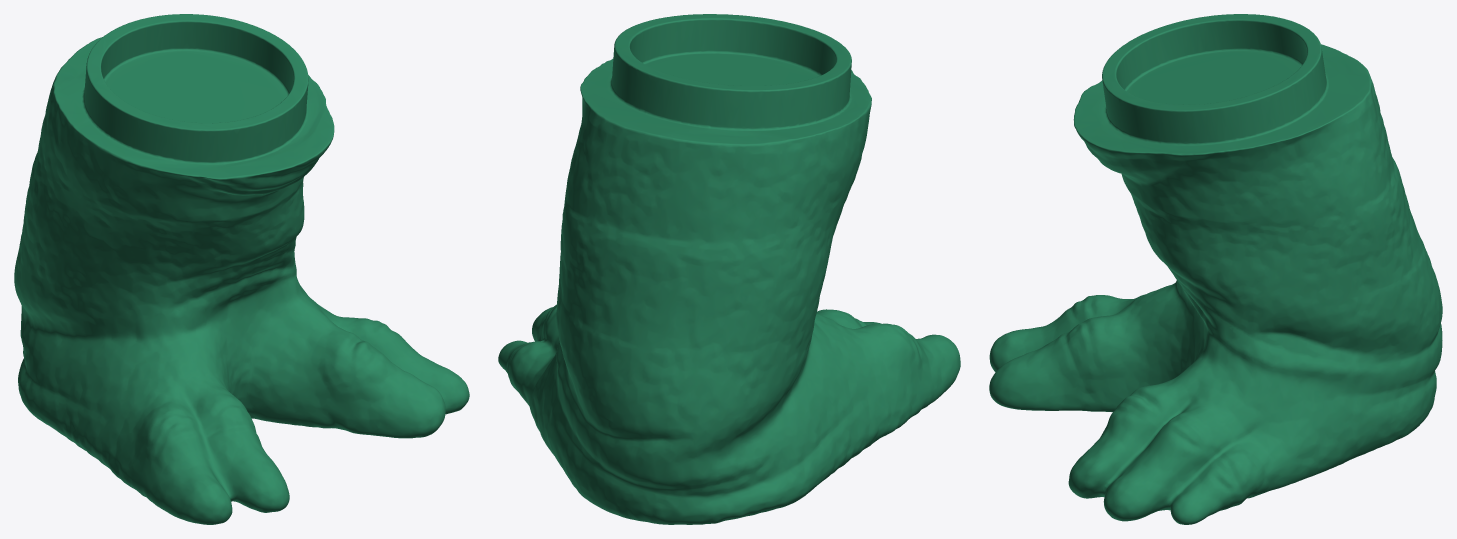
Rendered from Patte_Cameleon_lft.glb.
3 views of the same model, side by side, from view 1: azimuth 30°, elevation 25°; view 2: azimuth 150°, elevation 25°; view 3: azimuth 270°, elevation 25° (orthographic). The views are drawn at different scales.
Visible parts, largest first — view 1: Patte_Cameleon_lft; view 2: Patte_Cameleon_lft; view 3: Patte_Cameleon_lft.
Part boxes in pixels (x1,y1,x2,y2): Patte_Cameleon_lft: [14, 14, 469, 524]; Patte_Cameleon_lft: [498, 14, 960, 524]; Patte_Cameleon_lft: [989, 14, 1442, 524].
Size of the model in its own units: 2.24 by 2.26 by 2.54.
